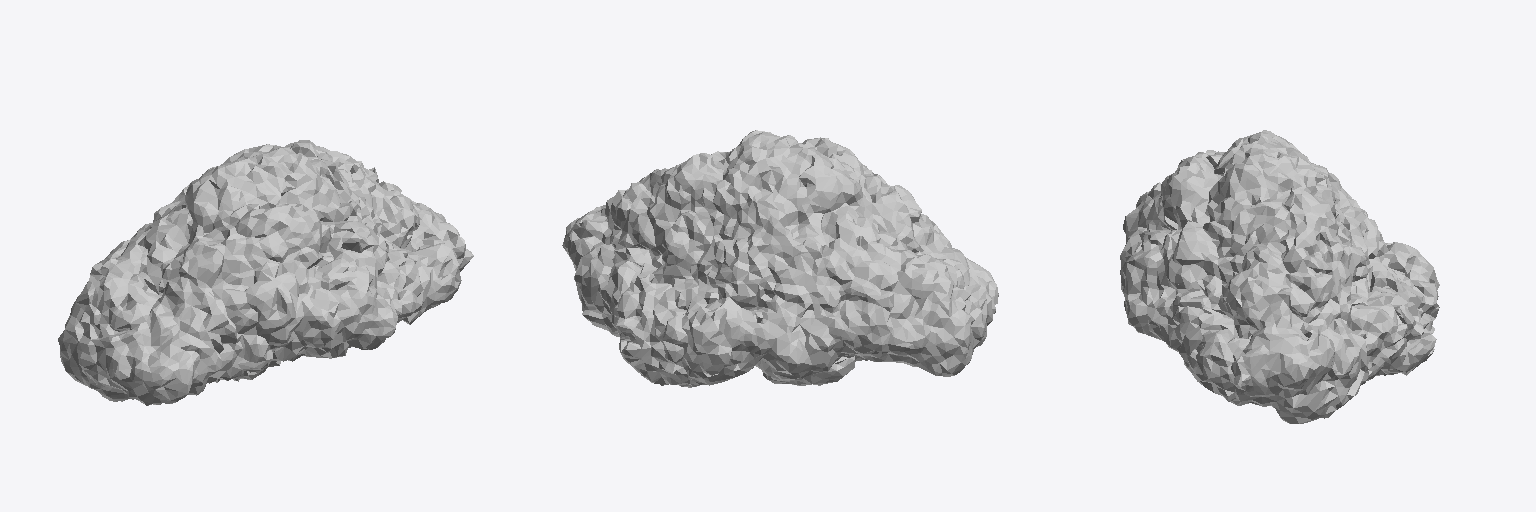
The model's file is cloud2.obj.
3 renders of one model, left to right at view 1: azimuth 30°, elevation 25°; view 2: azimuth 150°, elevation 25°; view 3: azimuth 270°, elevation 25°, orthographic.
Parts seen in each view (by area): view 1: 白云_[number redacted]_texture; view 2: 白云_[number redacted]_texture; view 3: 白云_[number redacted]_texture.
Part boxes in pixels (x1,y1,x2,y2): 白云_[number redacted]_texture: (58,140,473,405); 白云_[number redacted]_texture: (562,130,998,387); 白云_[number redacted]_texture: (1120,130,1439,423).
Size of the model in its own units: 1.99 by 1.07 by 1.39.